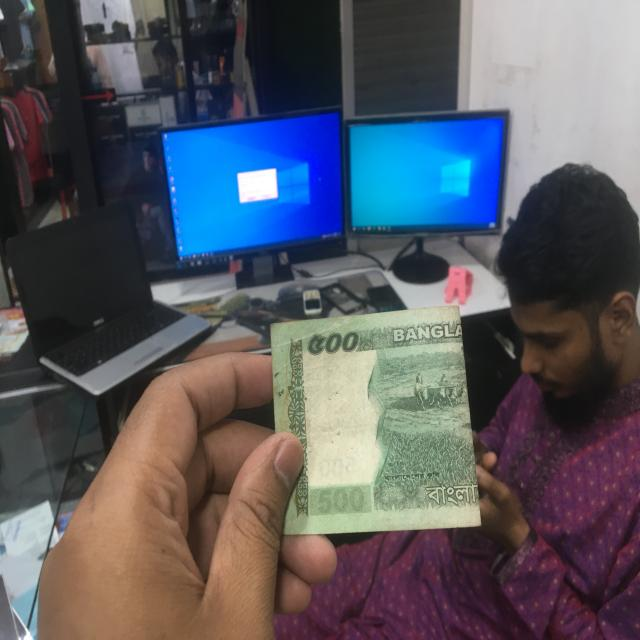Taka: (270, 322, 477, 527)
